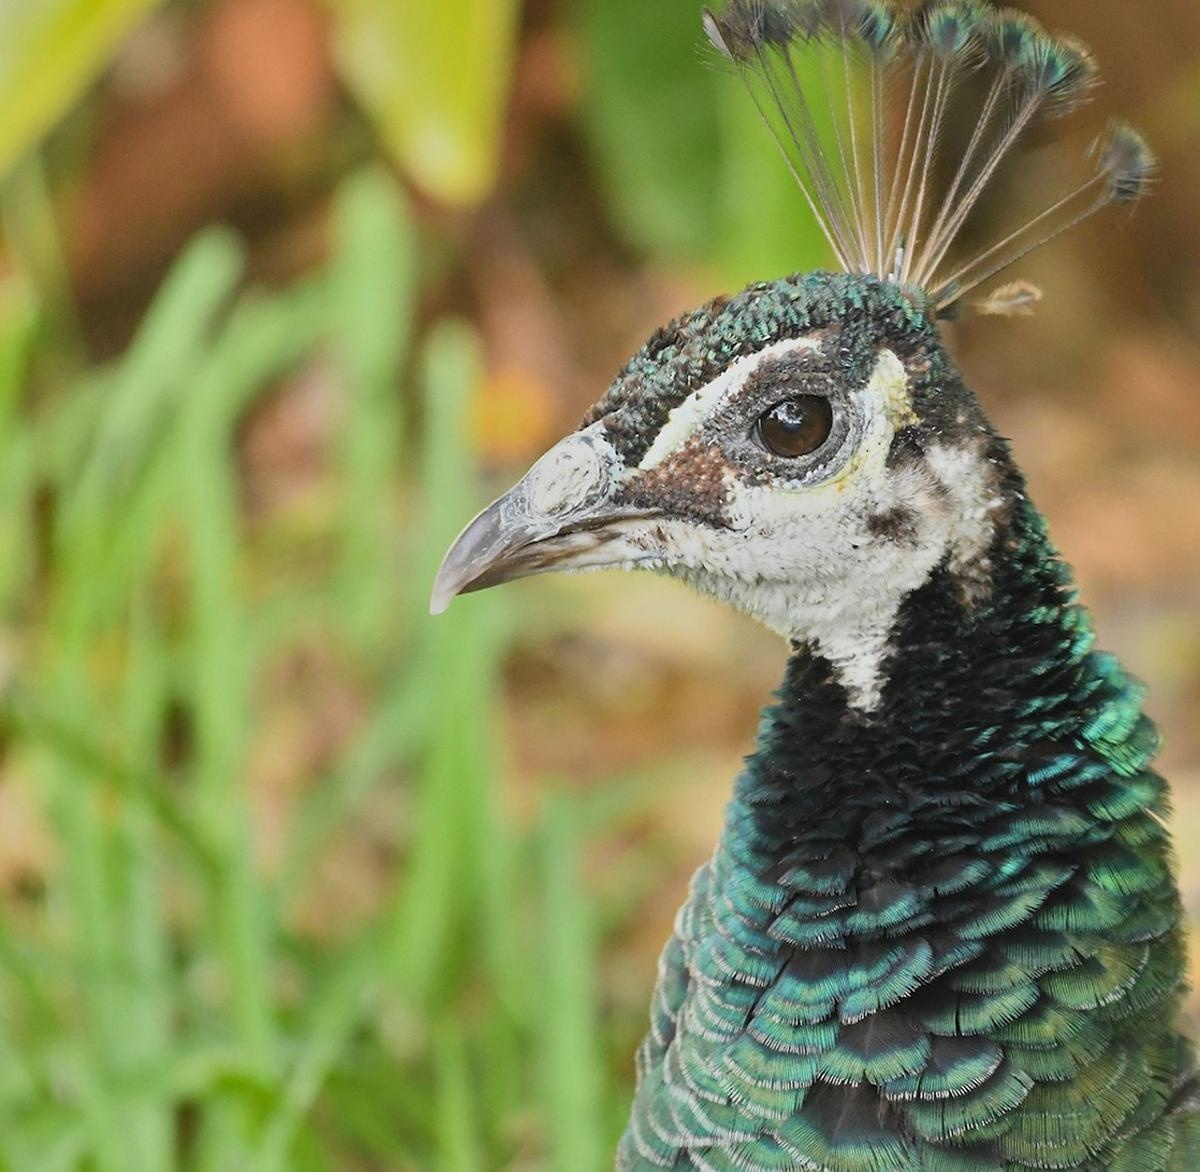peacock: (412, 175, 1200, 1172)
